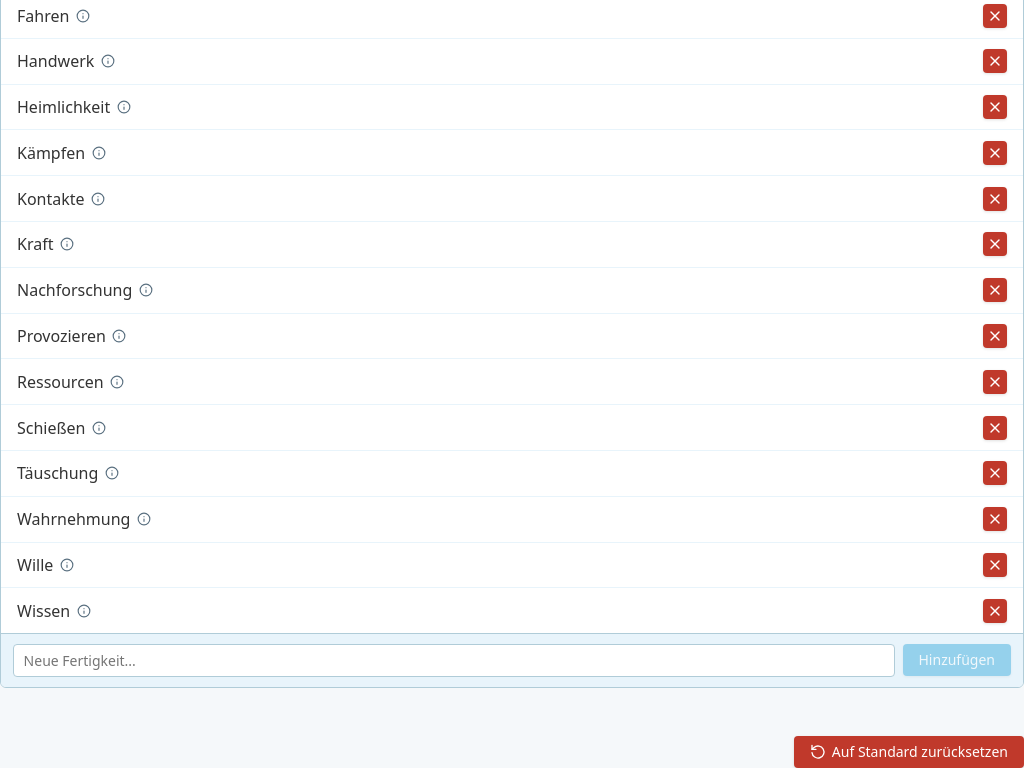
Test: SkillsView › "Auf Standard zurücksetzen" button › clicking "Bestätigen" closes the dialog
(page scrolled)
Click the text "Auf Standard zurücksetzen" at [920, 752], box left=832, top=745, right=1008, bottom=759
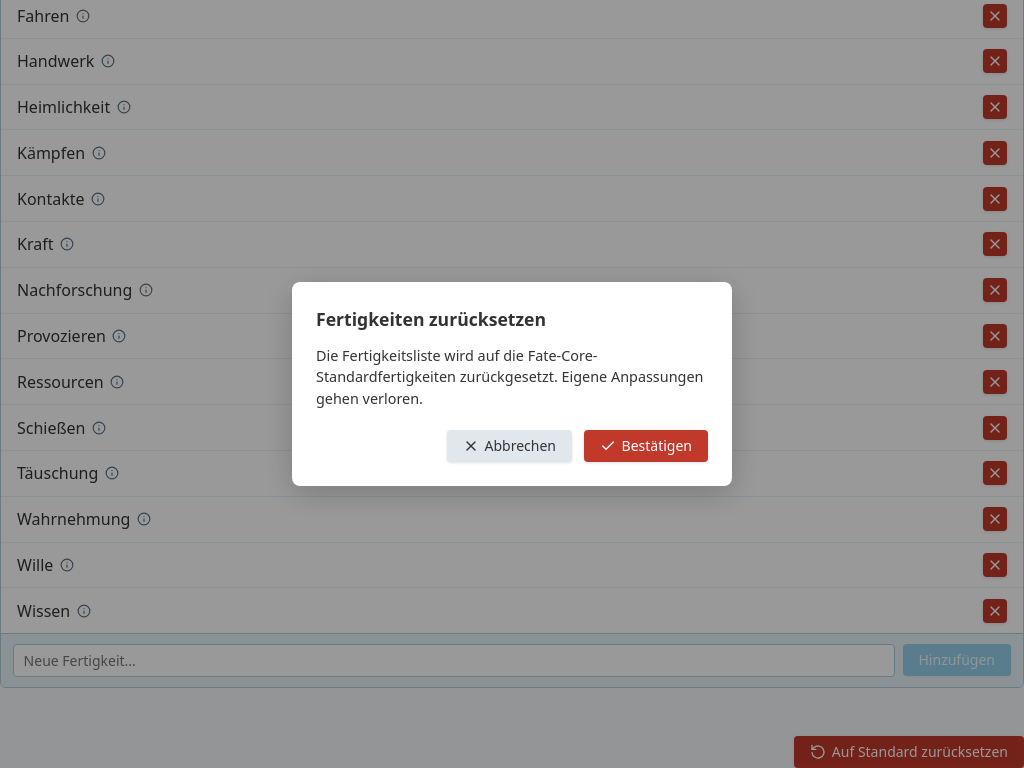
Click the button "Bestätigen" at [646, 446], box left=584, top=430, right=708, bottom=462
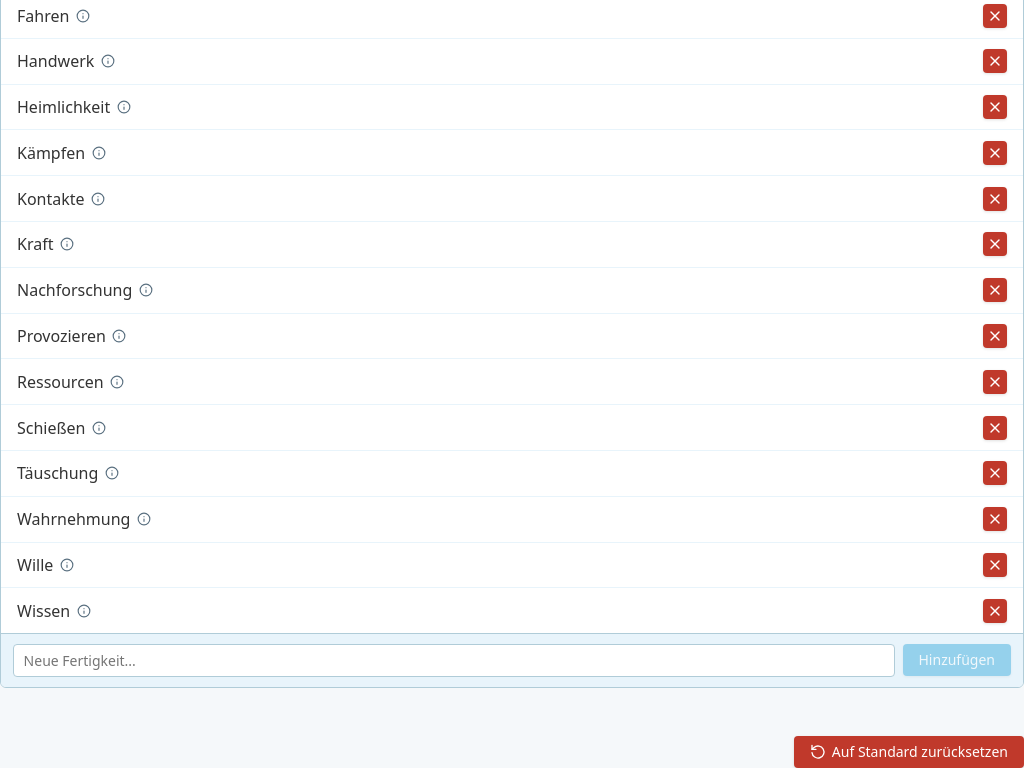
Check: the text "Fertigkeiten zurücksetzen" is gone
